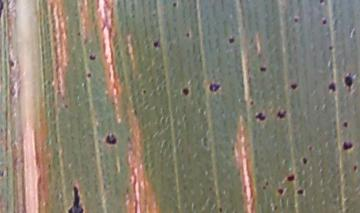tarspot: (66, 184, 85, 213), (342, 72, 355, 93), (104, 132, 118, 146), (254, 110, 268, 122), (341, 140, 355, 152), (275, 108, 288, 120), (208, 82, 222, 93), (327, 80, 338, 93), (181, 86, 191, 97), (289, 81, 300, 91), (286, 173, 296, 183), (275, 187, 286, 196), (152, 39, 160, 49), (301, 156, 309, 165), (296, 188, 305, 196), (259, 65, 267, 73), (342, 121, 350, 129), (88, 54, 97, 61), (184, 31, 192, 38), (228, 36, 235, 44), (249, 98, 256, 106), (321, 17, 328, 25), (352, 164, 359, 172), (171, 1, 178, 8), (307, 145, 314, 152), (85, 72, 93, 78), (293, 16, 299, 24), (318, 1, 327, 6), (328, 44, 334, 51), (76, 31, 82, 37), (218, 207, 224, 213), (265, 180, 270, 186), (262, 184, 267, 190), (142, 89, 147, 94)
